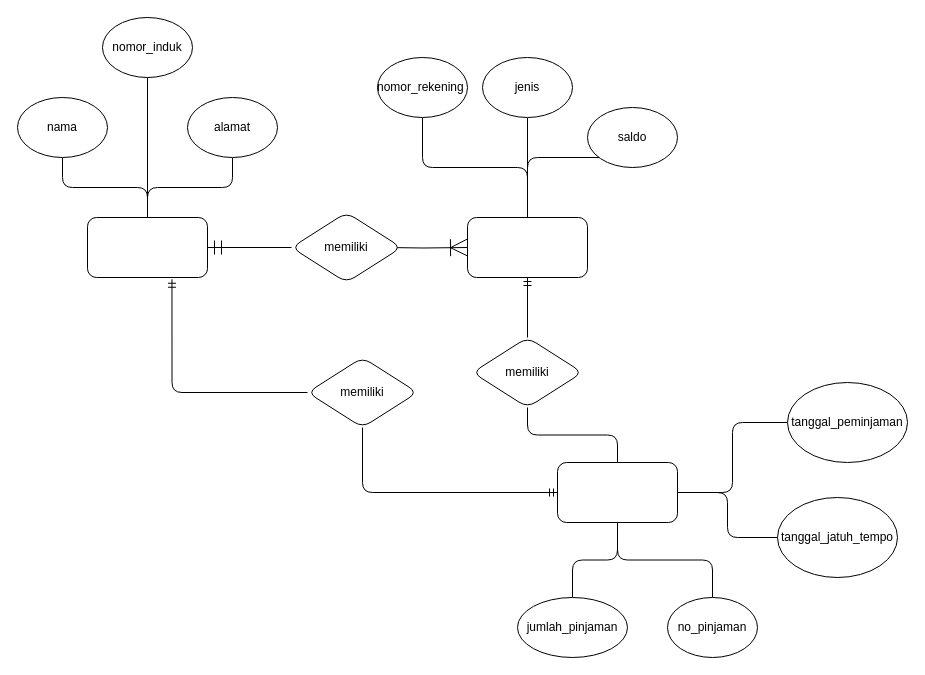
Some shapes in this 925 by 675 pixel diagram are drawn without their labels. Each missing label, with the centre of its shape:
NASABAH: point 147,247
PINJAMAN: point 617,492
REKENING: point 527,247
